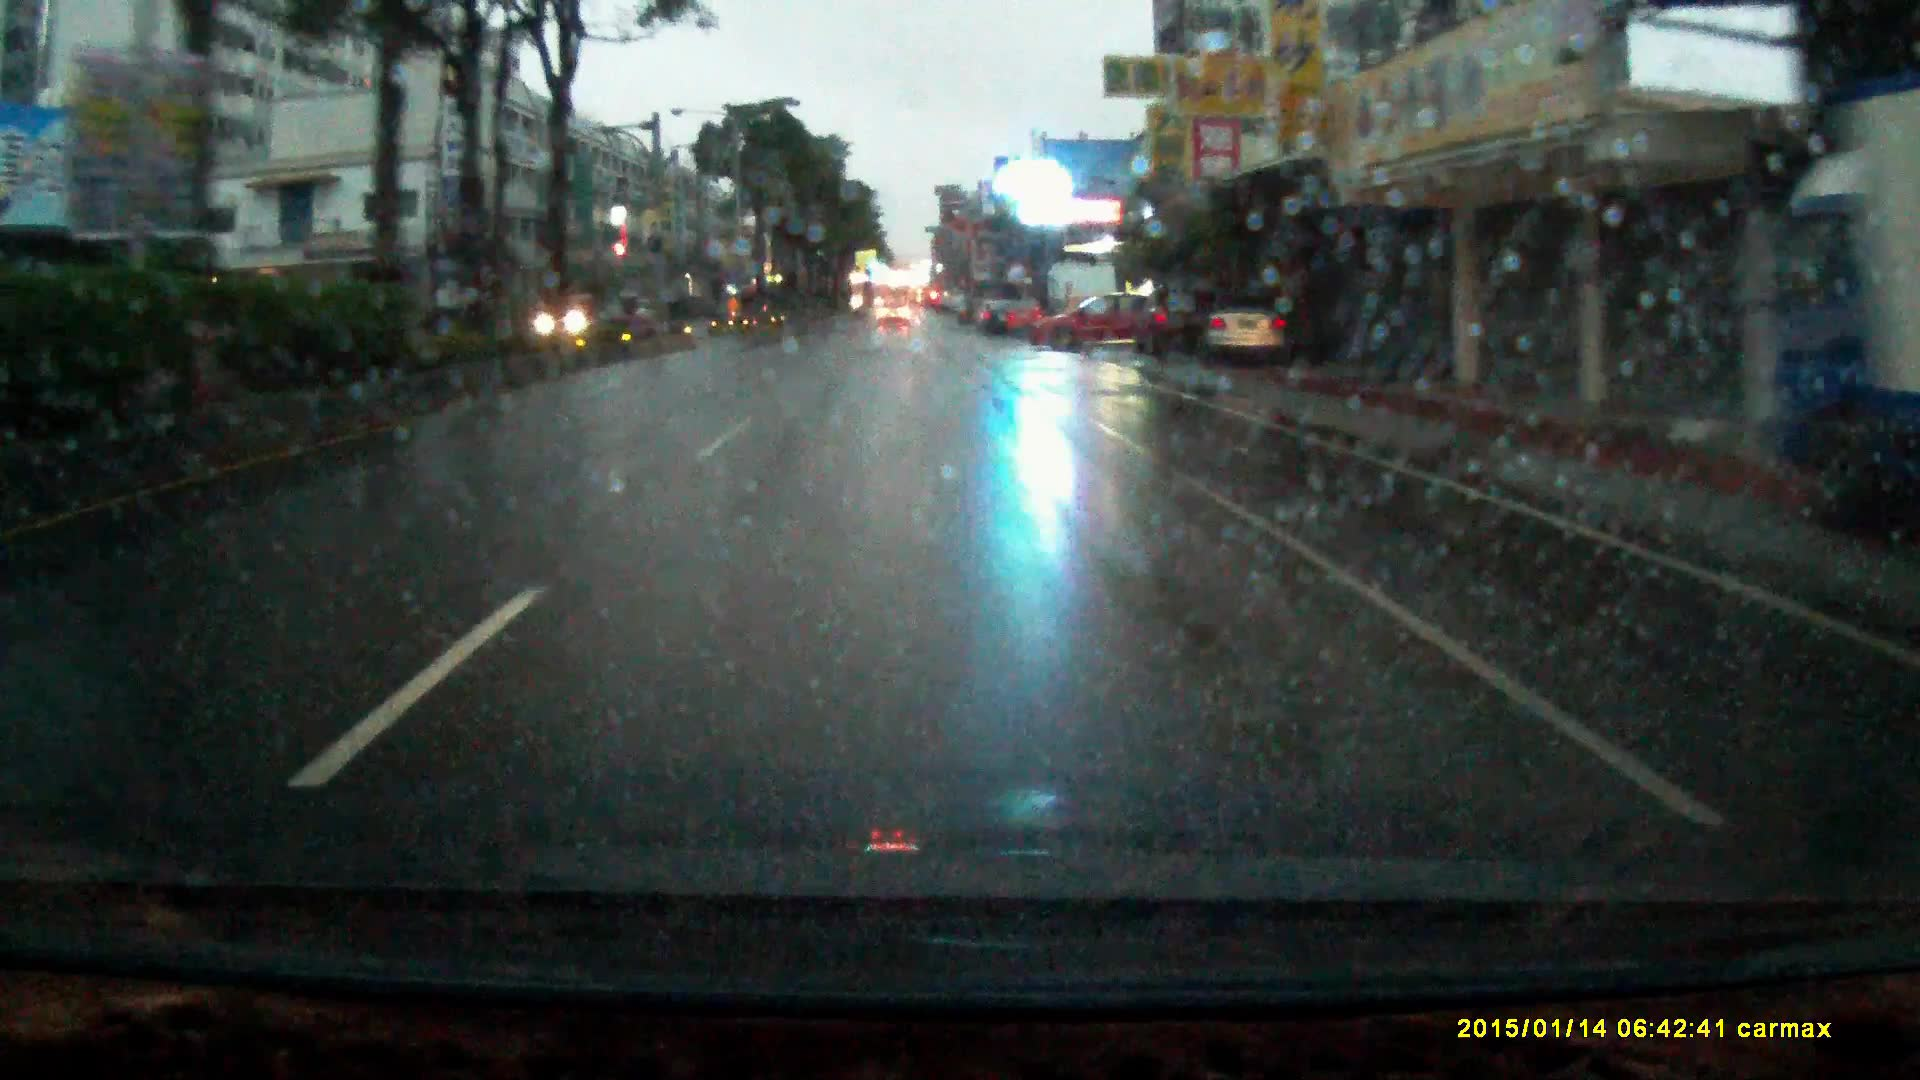vehicle: (1754, 92, 1920, 518), (1027, 294, 1171, 353), (1201, 293, 1292, 369), (1133, 290, 1213, 359), (529, 295, 601, 338), (1005, 299, 1047, 338), (976, 301, 1017, 336), (878, 301, 913, 328)
